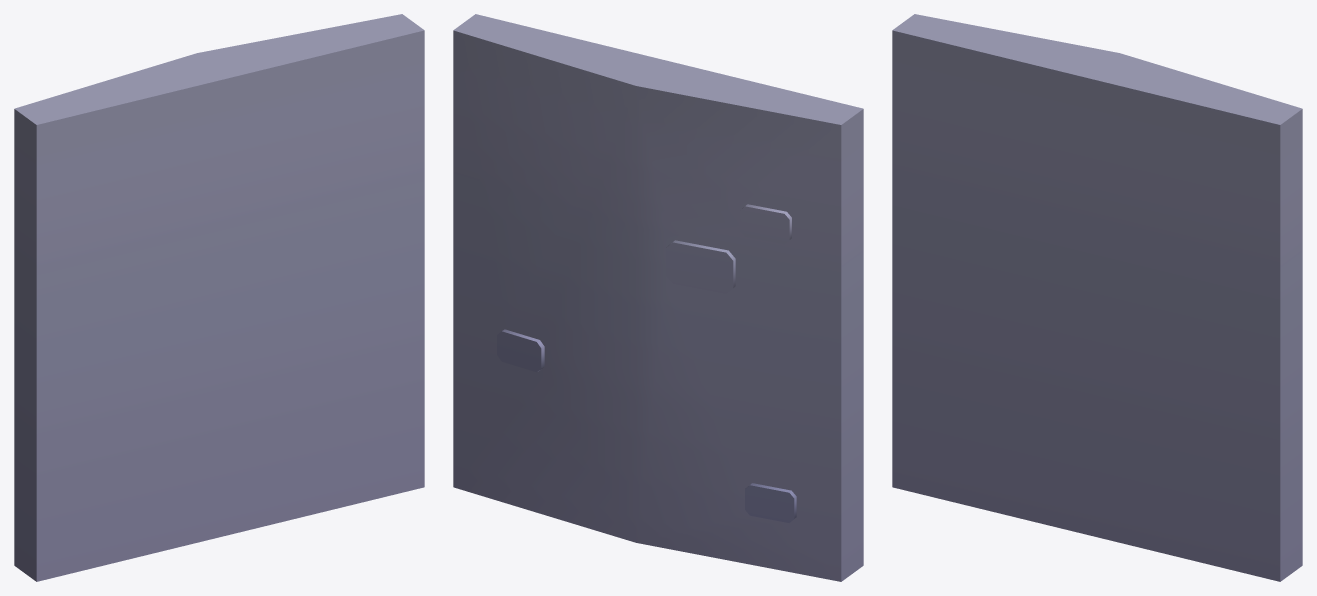
The model's file is kenney-modular-dungeon-template-wall-top.glb.
The picture shows the model from 3 angles, left to right: view 1: azimuth 30°, elevation 25°; view 2: azimuth 150°, elevation 25°; view 3: azimuth 330°, elevation 25°; orthographic projection.
Parts seen in each view (by area): view 1: template-wall-top; view 2: template-wall-top; view 3: template-wall-top.
Part boxes in pixels (x1,y1,x2,y2): template-wall-top: (14, 14, 424, 581); template-wall-top: (453, 14, 863, 581); template-wall-top: (892, 14, 1302, 581).
Bounding box in the file's own units: 4 × 4.5 × 0.6185.
1 material, 1 textured.
